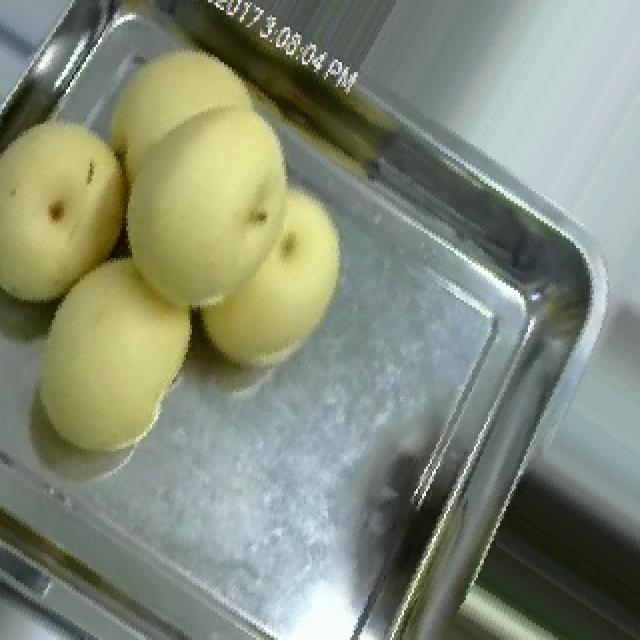Fruit: (70, 15, 368, 350), (2, 221, 222, 479), (0, 80, 166, 328)
